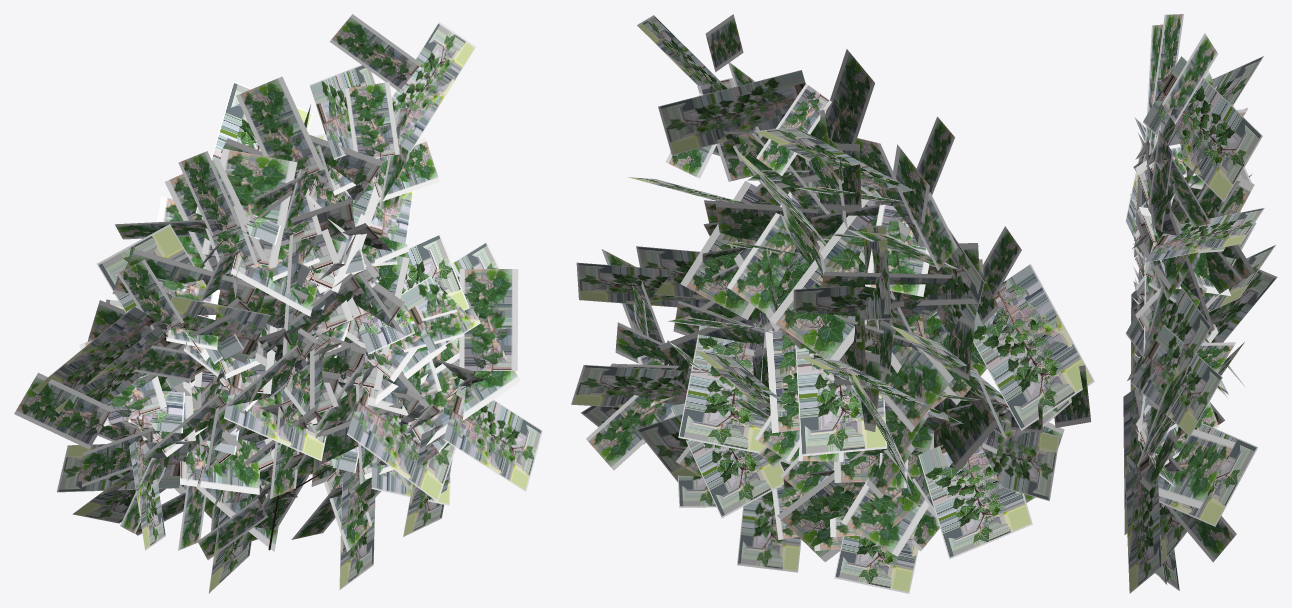
Rendered from Ivy4.fbx.
The picture shows the model from 3 angles, left to right: view 1: azimuth 30°, elevation 25°; view 2: azimuth 150°, elevation 25°; view 3: azimuth 270°, elevation 25°; orthographic projection. The views are drawn at different scales.
Parts seen in each view (by area): view 1: Ivy4; view 2: Ivy4; view 3: Ivy4.
Boxes of the visible parts, x1=… form: Ivy4: x1=14, y1=14, x2=542, y2=593; Ivy4: x1=571, y1=14, x2=1094, y2=593; Ivy4: x1=1123, y1=14, x2=1277, y2=593.
Size of the model in its own units: 410 by 421 by 105.
